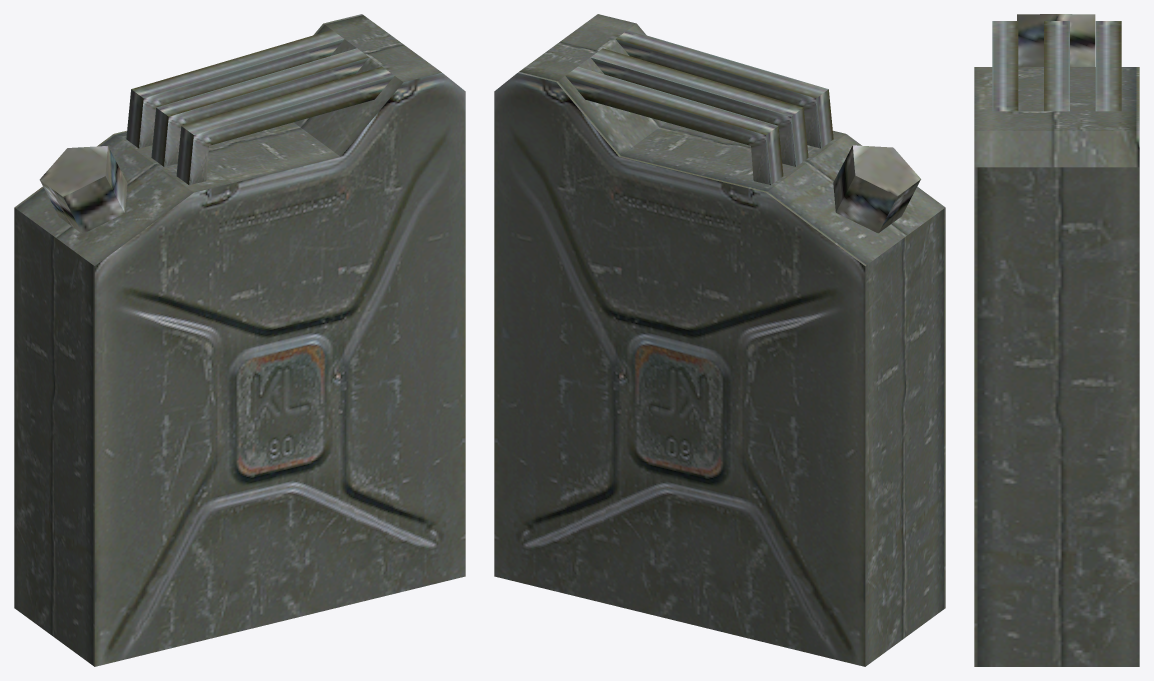
Rendered from gtorn.fbx.
3 views of the same model, side by side, from view 1: azimuth 30°, elevation 25°; view 2: azimuth 150°, elevation 25°; view 3: azimuth 270°, elevation 25° (orthographic). The views are drawn at different scales.
Visible parts, largest first — view 1: gtorn_Layer1; view 2: gtorn_Layer1; view 3: gtorn_Layer1.
Part boxes in pixels (x1=…): gtorn_Layer1: x1=14, y1=14, x2=465, y2=666; gtorn_Layer1: x1=494, y1=14, x2=945, y2=666; gtorn_Layer1: x1=974, y1=14, x2=1139, y2=666.
Size of the model in its own units: 64.62 by 84 by 24.
Materials: 1 (1 with a texture image).
